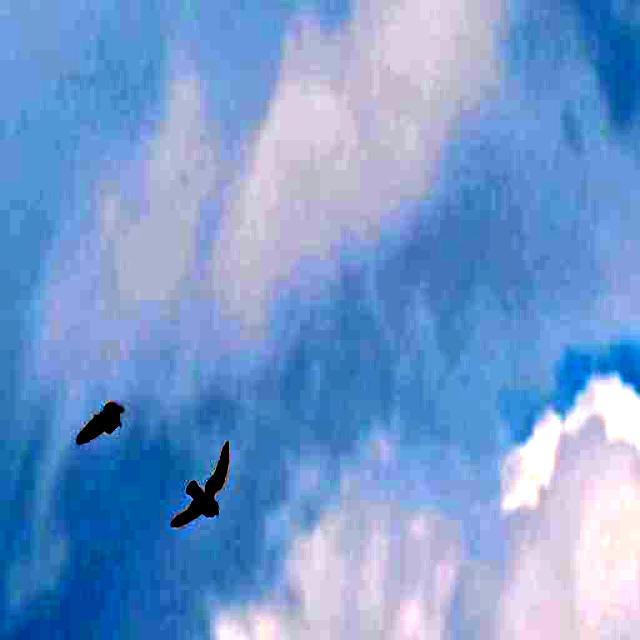airplane: (169, 436, 238, 539), (68, 381, 126, 459)
